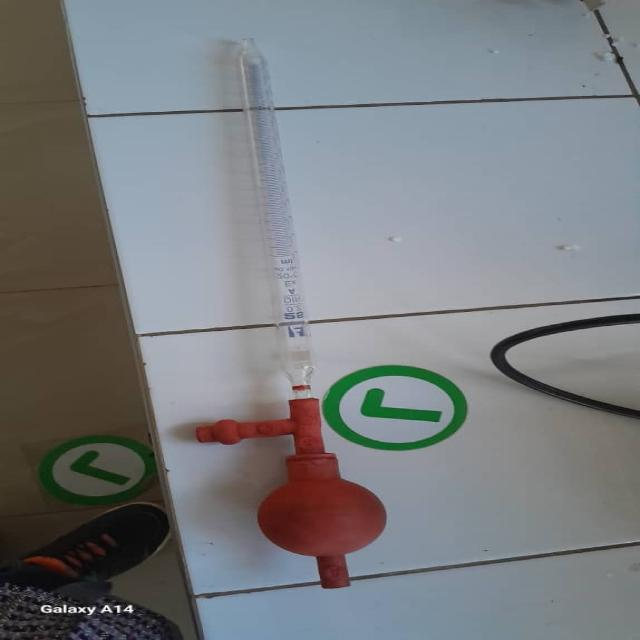Droppers: (194, 34, 418, 595)
